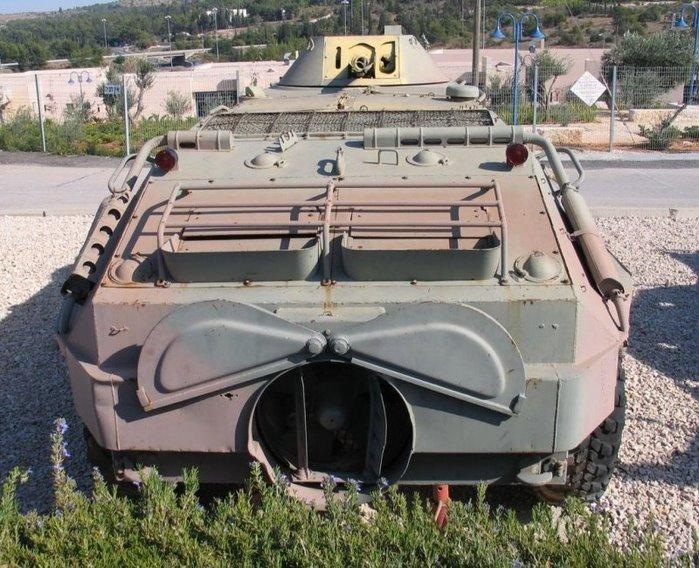MIL_IFV: (51, 32, 638, 520)
